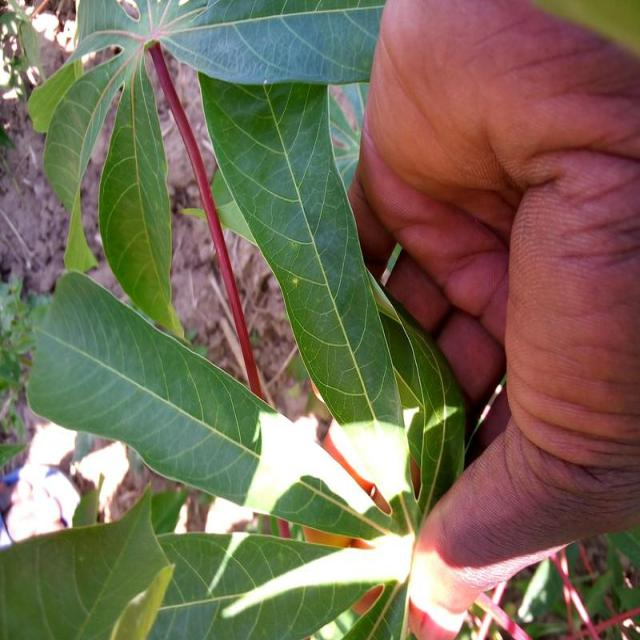cassava leaf: (196, 67, 407, 433), (25, 268, 276, 507), (96, 46, 186, 340)
